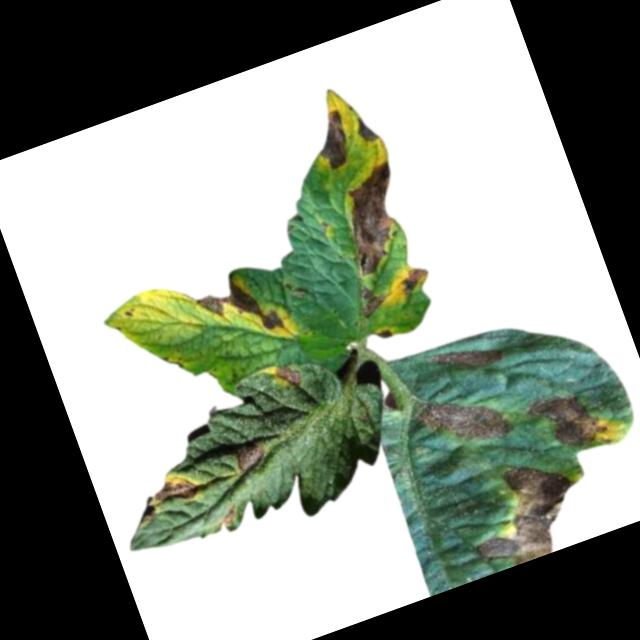Early_blight: (456, 450, 596, 575), (329, 160, 426, 278), (414, 377, 518, 463), (193, 266, 287, 354), (524, 381, 608, 463), (428, 331, 508, 387), (307, 108, 359, 175), (149, 467, 205, 514), (231, 437, 272, 475), (272, 359, 309, 395), (354, 282, 389, 320), (400, 264, 434, 296), (352, 112, 381, 145), (218, 506, 242, 529), (376, 326, 394, 344)
